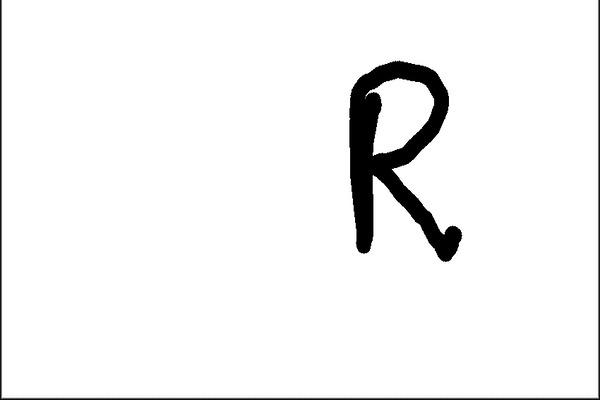R: (333, 56, 484, 272)
